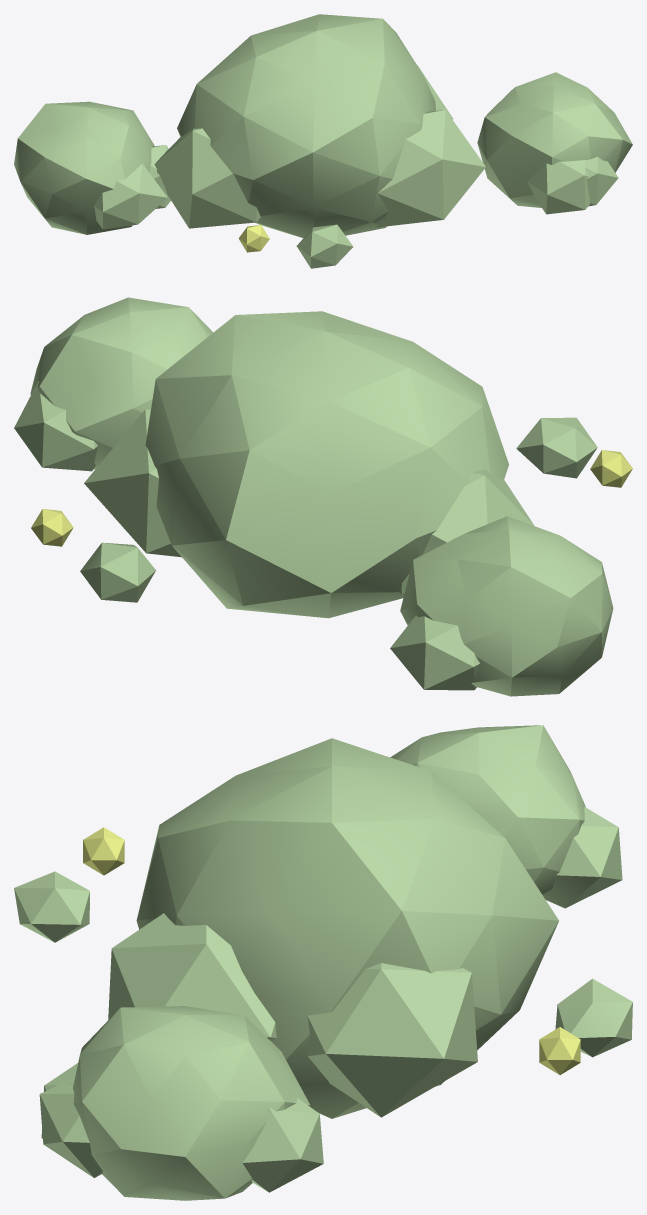
The model's file is tt_cab_dress_mound.glb.
The picture shows the model from 3 angles, top to bottom: view 1: azimuth 30°, elevation 25°; view 2: azimuth 150°, elevation 25°; view 3: azimuth 270°, elevation 25°; orthographic projection. The views are drawn at different scales.
Visible parts, largest first — view 1: Moss, Tuft, Balls; view 2: Moss, Tuft, Balls; view 3: Moss, Tuft, Balls.
Part boxes in pixels (<box>): Moss: <box>14,14,632,238</box>; Tuft: <box>296,224,353,268</box>; Balls: <box>238,225,269,252</box>; Moss: <box>14,297,613,696</box>; Tuft: <box>80,417,597,602</box>; Balls: <box>31,450,632,546</box>; Moss: <box>39,725,622,1200</box>; Tuft: <box>14,871,632,1057</box>; Balls: <box>83,827,580,1074</box>.
Size of the model in its own units: 1.12 by 0.4382 by 0.76.
